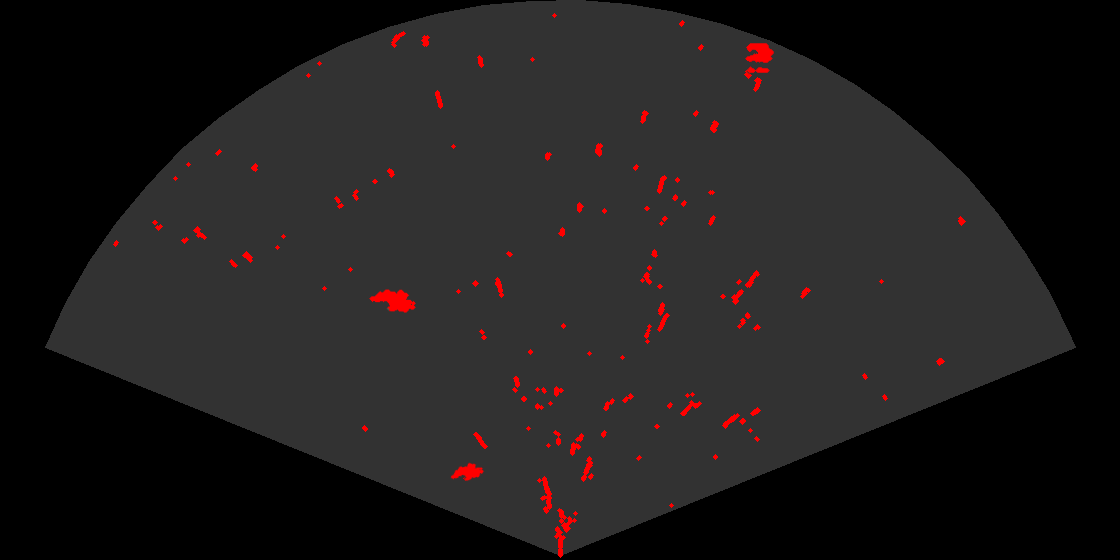AUV: (368, 288, 417, 314), (449, 461, 486, 483)
ball: (744, 42, 775, 75)
